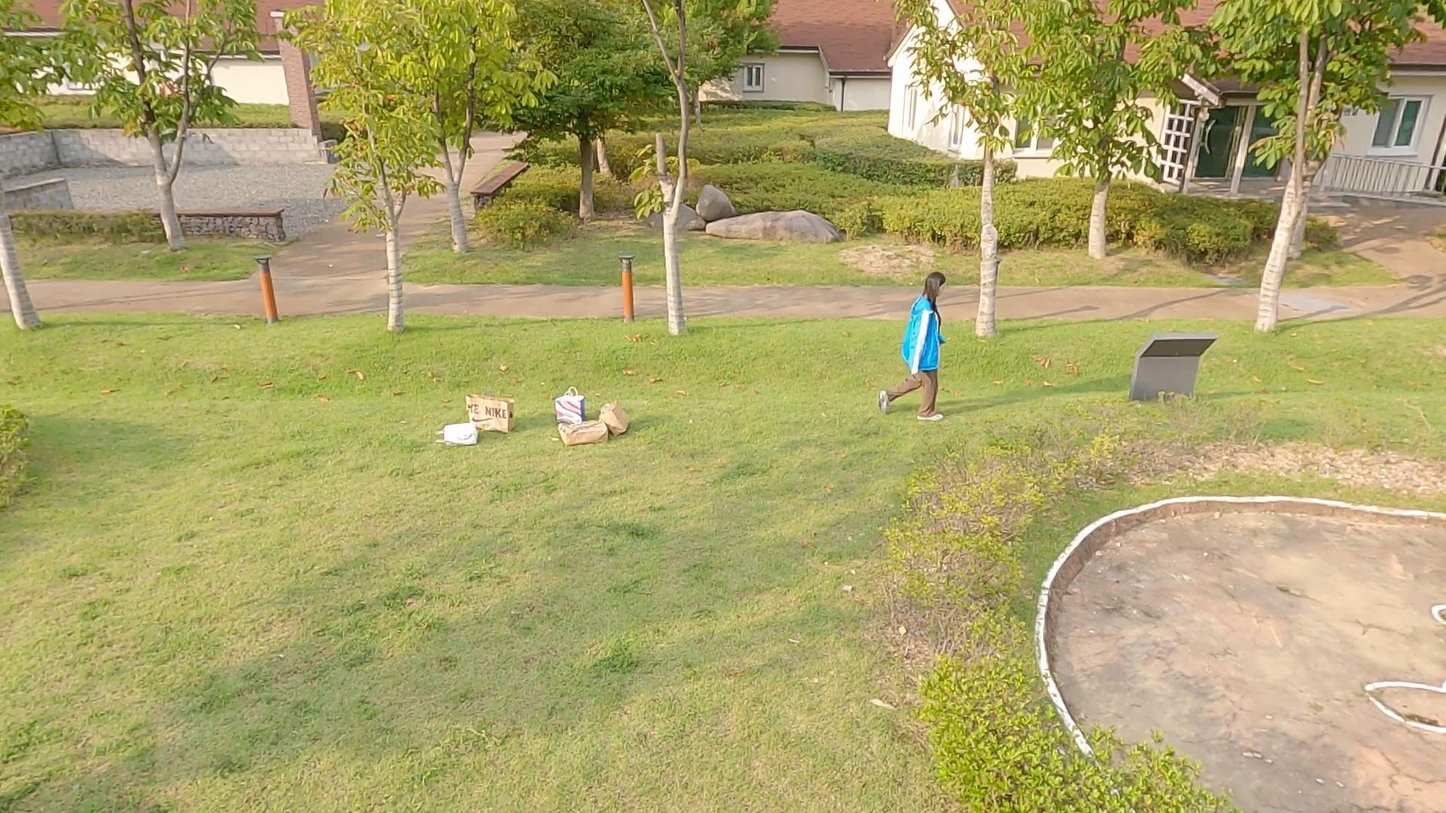person: (878, 273, 955, 424)
trash: (460, 384, 518, 439), (547, 416, 614, 451), (547, 384, 589, 430), (431, 423, 482, 451), (594, 402, 636, 436)
